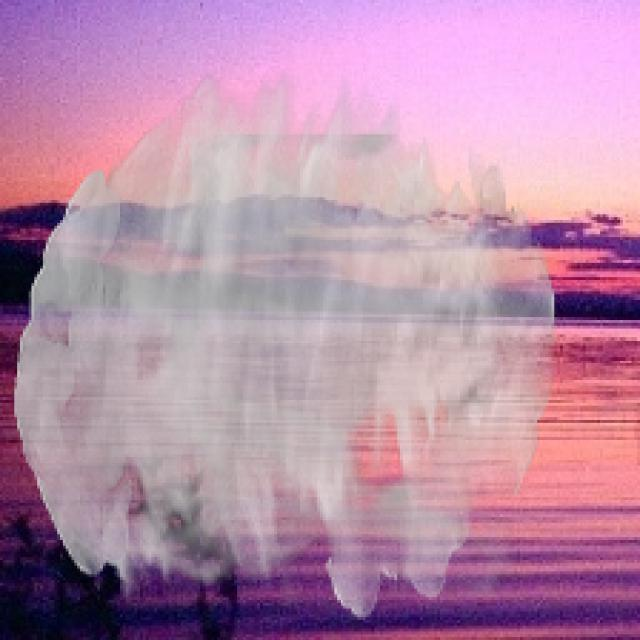Smoke: (14, 69, 557, 620)
